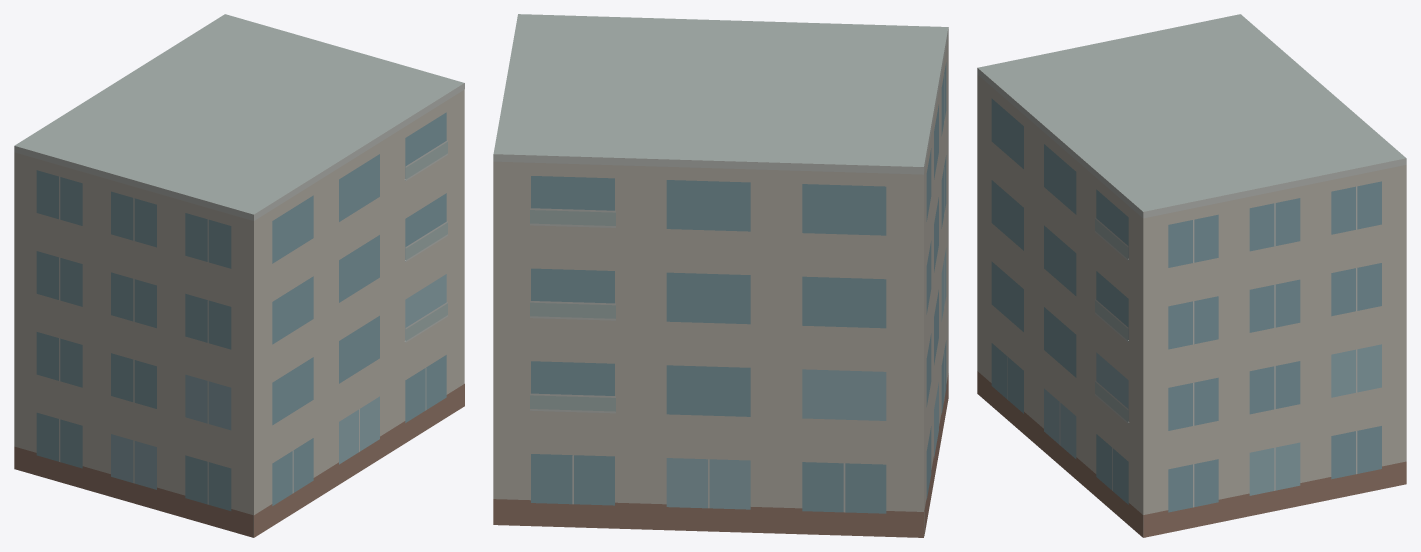
File: survey-upis-32942244.glb
The picture shows the model from 3 angles, left to right: view 1: azimuth 30°, elevation 25°; view 2: azimuth 150°, elevation 25°; view 3: azimuth 270°, elevation 25°; orthographic projection. The views are drawn at different scales.
Visible parts, largest first — view 1: survey-upis-32942244.tmp; view 2: survey-upis-32942244.tmp; view 3: survey-upis-32942244.tmp.
Boxes of the visible parts, x1=… form: survey-upis-32942244.tmp: x1=14, y1=14, x2=464, y2=537; survey-upis-32942244.tmp: x1=493, y1=14, x2=948, y2=537; survey-upis-32942244.tmp: x1=977, y1=14, x2=1406, y2=537.
Size of the model in its own units: 15.9 by 12.2 by 14.57.
